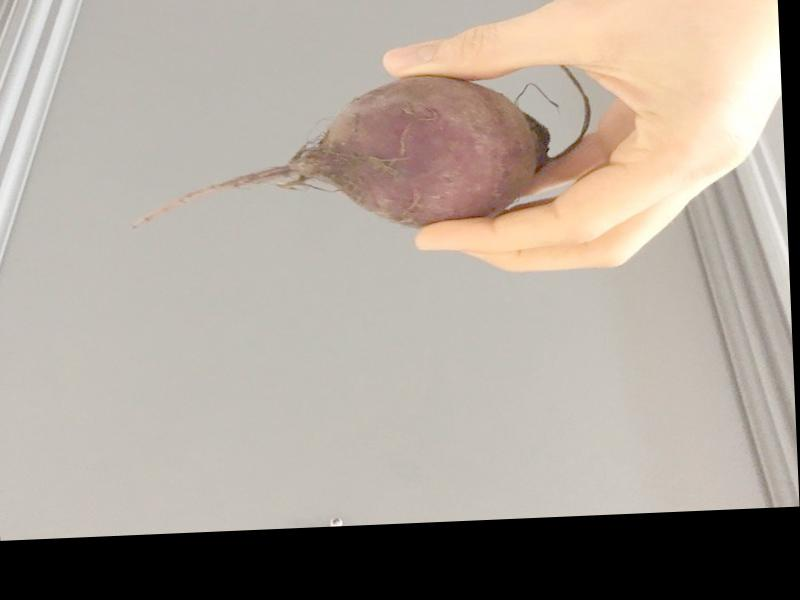Beet: (116, 65, 592, 236)
